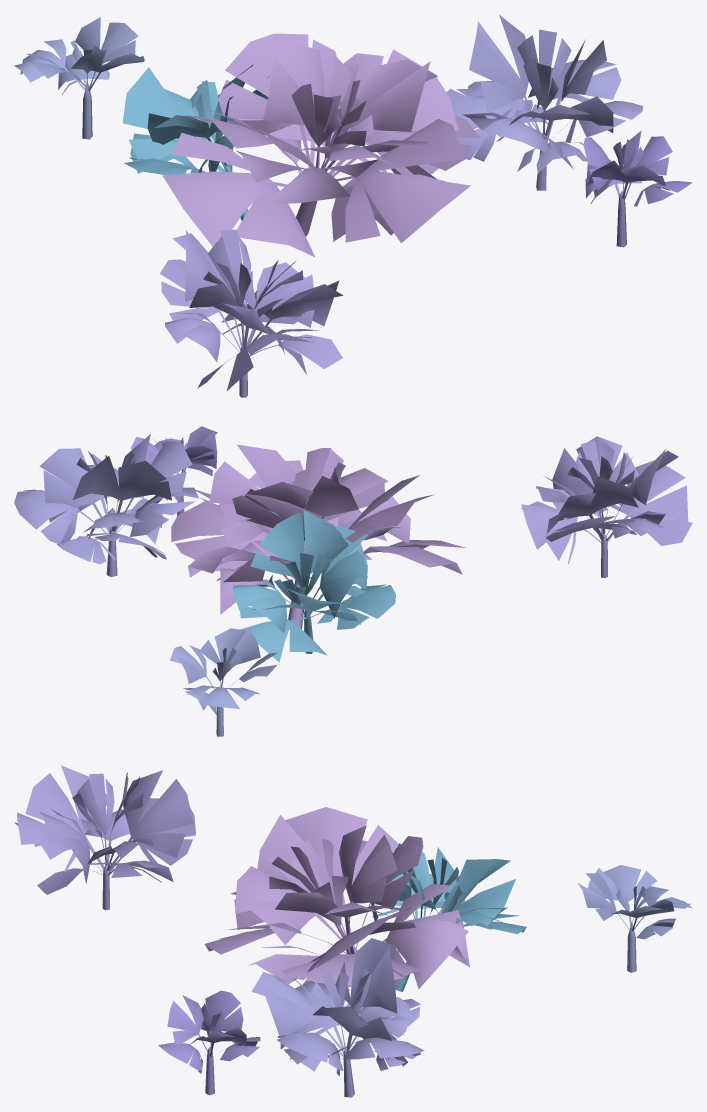
3 renders of one model, top to bottom at view 1: azimuth 30°, elevation 25°; view 2: azimuth 150°, elevation 25°; view 3: azimuth 270°, elevation 25°, orthographic. The views are drawn at different scales.
Parts seen in each view (by area): view 1: SM_BS_FanPalm_150cm_HD; view 2: SM_BS_FanPalm_150cm_HD; view 3: SM_BS_FanPalm_150cm_HD.
Boxes of the visible parts, <box> form: SM_BS_FanPalm_150cm_HD: <box>14,15,692,397</box>; SM_BS_FanPalm_150cm_HD: <box>14,426,692,736</box>; SM_BS_FanPalm_150cm_HD: <box>14,765,692,1097</box>.
Size of the model in its own units: 260 by 230 by 70.84.
